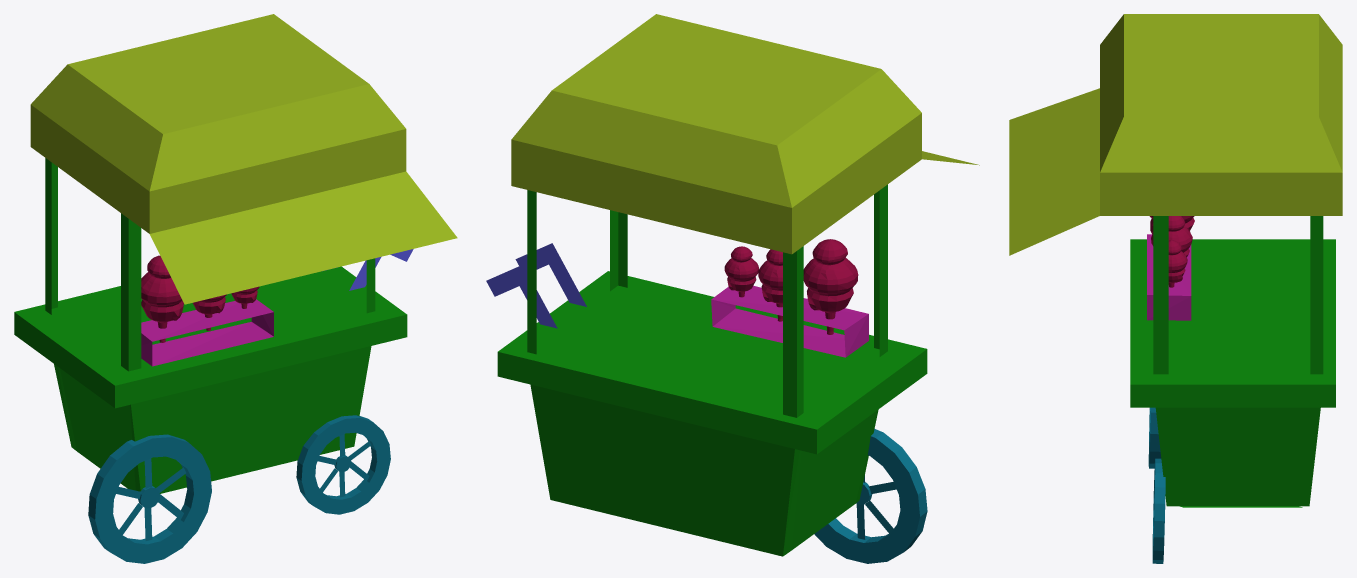
The model's file is algodon.fbx.
3 views of the same model, side by side, from view 1: azimuth 30°, elevation 25°; view 2: azimuth 150°, elevation 25°; view 3: azimuth 270°, elevation 25° (orthographic). The views are drawn at different scales.
Parts seen in each view (by area): view 1: puesto_algodon; view 2: puesto_algodon; view 3: puesto_algodon.
Part boxes in pixels (x1,y1,x2,y2): puesto_algodon: (14, 14, 457, 563); puesto_algodon: (486, 14, 979, 563); puesto_algodon: (1009, 14, 1342, 563).
Size of the model in its own units: 75.27 by 90.33 by 61.19.
